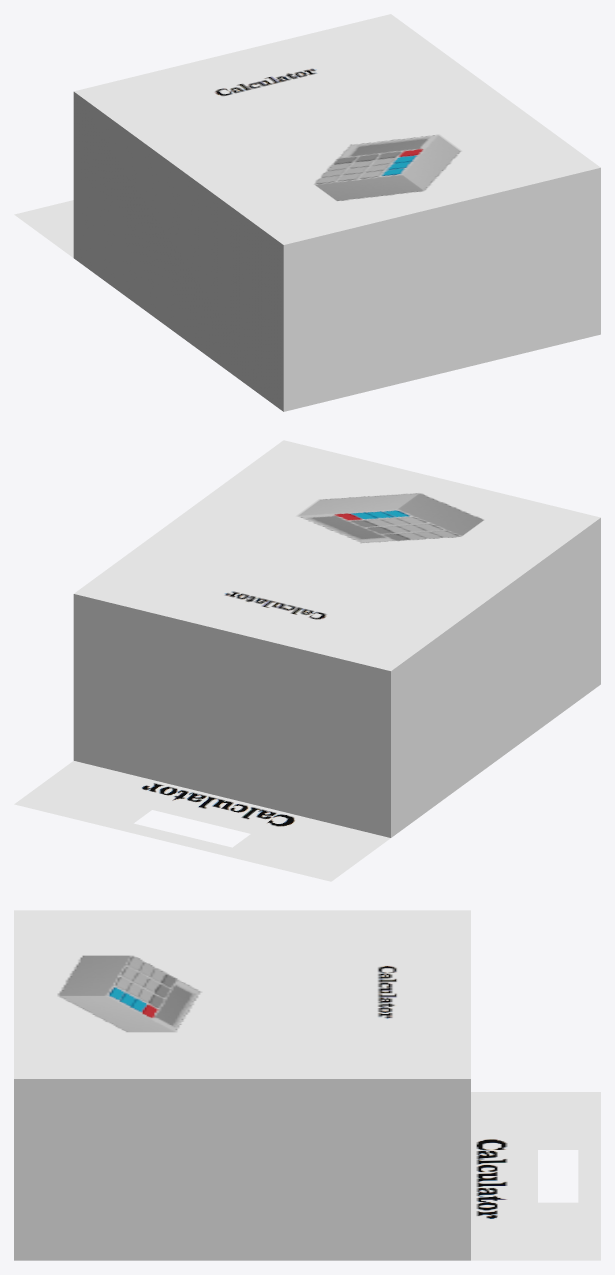
The model's file is Packaged Calculator.fbx.
3 views of the same model, one above another, from view 1: azimuth 30°, elevation 25°; view 2: azimuth 150°, elevation 25°; view 3: azimuth 270°, elevation 25° (orthographic). The views are drawn at different scales.
Parts seen in each view (by area): view 1: Cube; view 2: Cube; view 3: Cube.
Boxes of the visible parts, x1,y1,x2,y2 form: Cube: [14, 14, 600, 411]; Cube: [14, 440, 600, 881]; Cube: [14, 910, 600, 1260].
Size of the model in its own units: 136 by 68.16 by 200.
